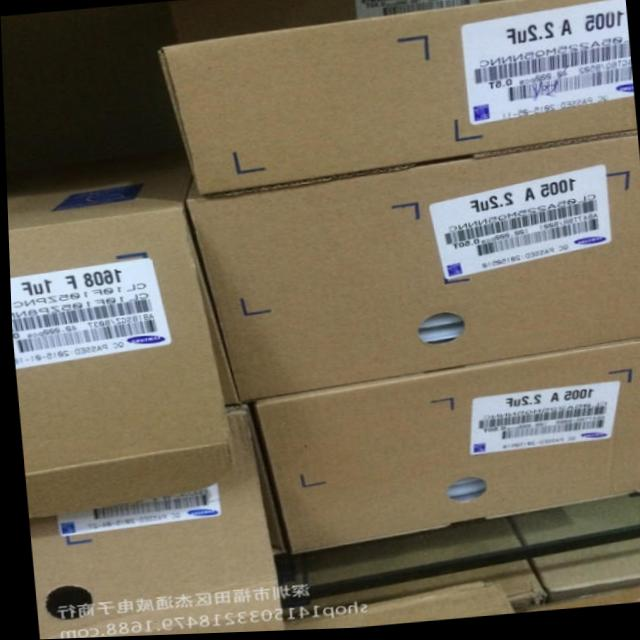box: (186, 139, 640, 403), (154, 0, 635, 201), (5, 147, 238, 518), (253, 344, 640, 557), (25, 404, 284, 640), (171, 0, 499, 44)
